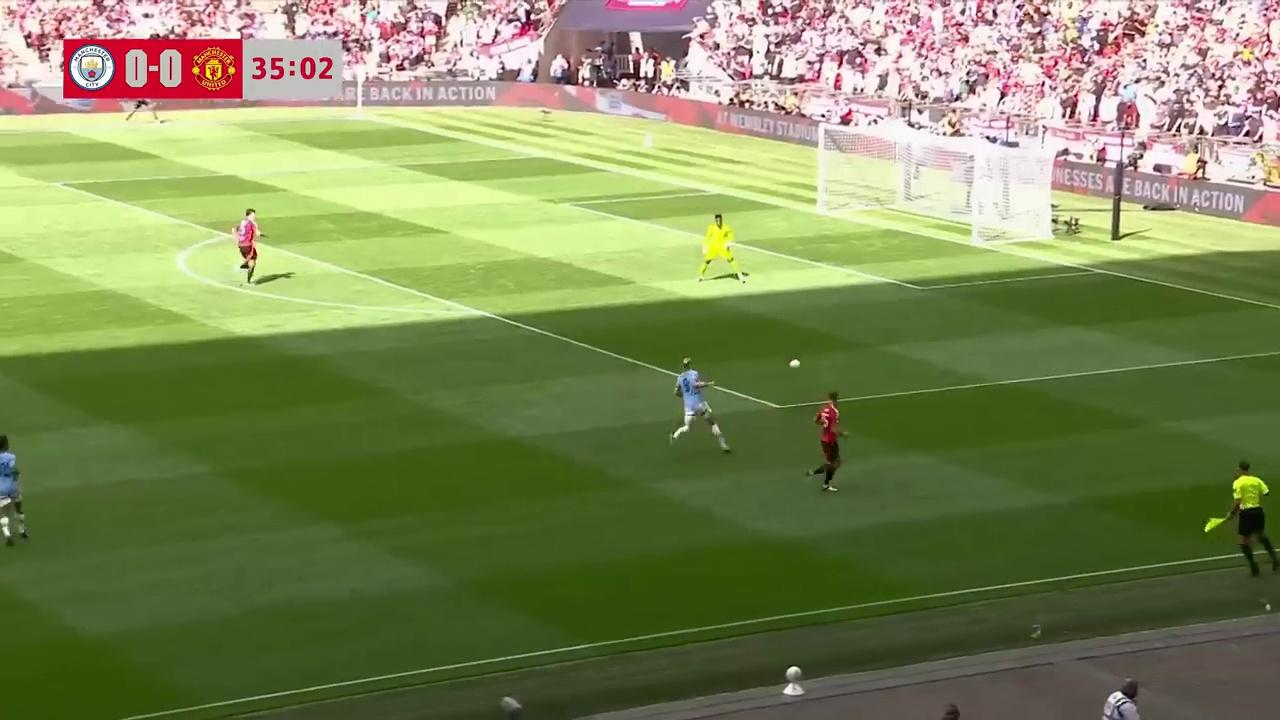ball: (787, 355, 801, 370)
player: (669, 357, 731, 447), (697, 212, 748, 284), (811, 391, 847, 492), (0, 433, 28, 545), (233, 209, 263, 283)
referee: (1207, 460, 1277, 579)
